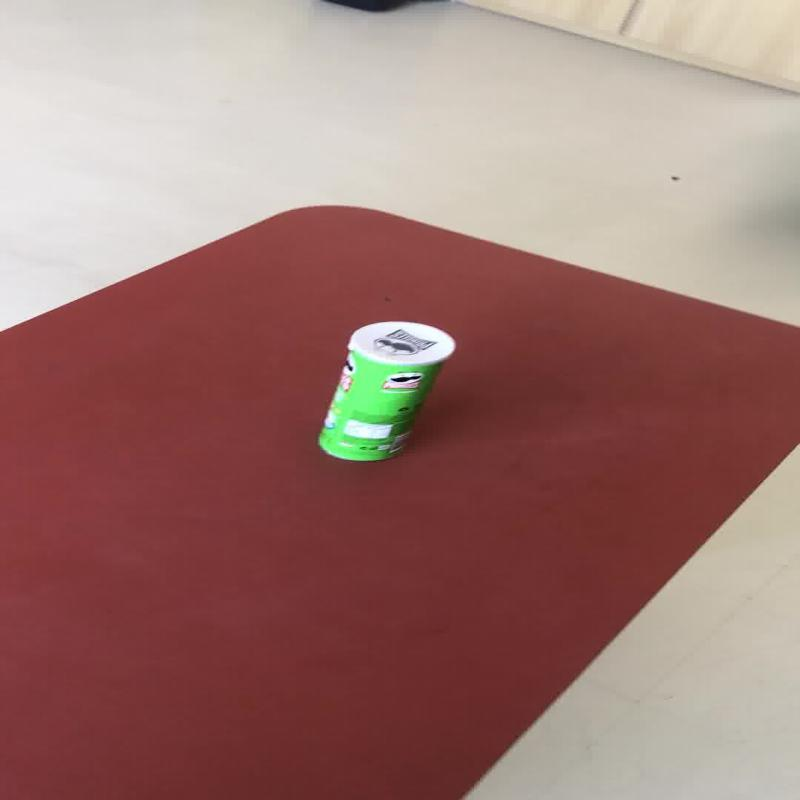pringles: (315, 319, 455, 462)
